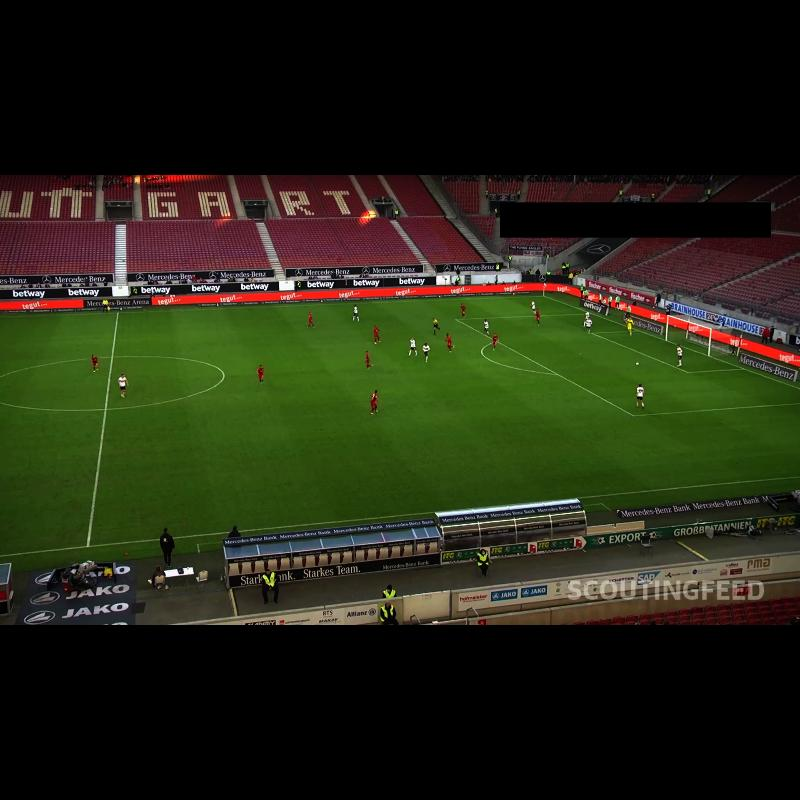cross_recipient_zone: (456, 313, 800, 415)
crossing_player_zone: (510, 403, 800, 496), (353, 296, 587, 323)
pitch: (0, 296, 800, 557)
